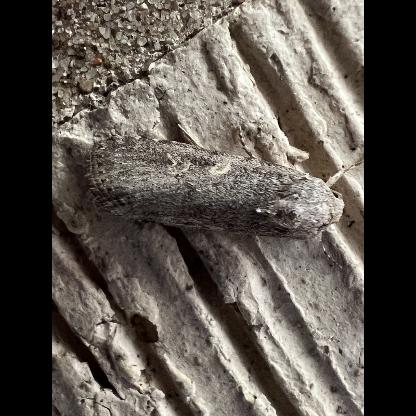Fall Armyworm Moth: (78, 131, 364, 273)
